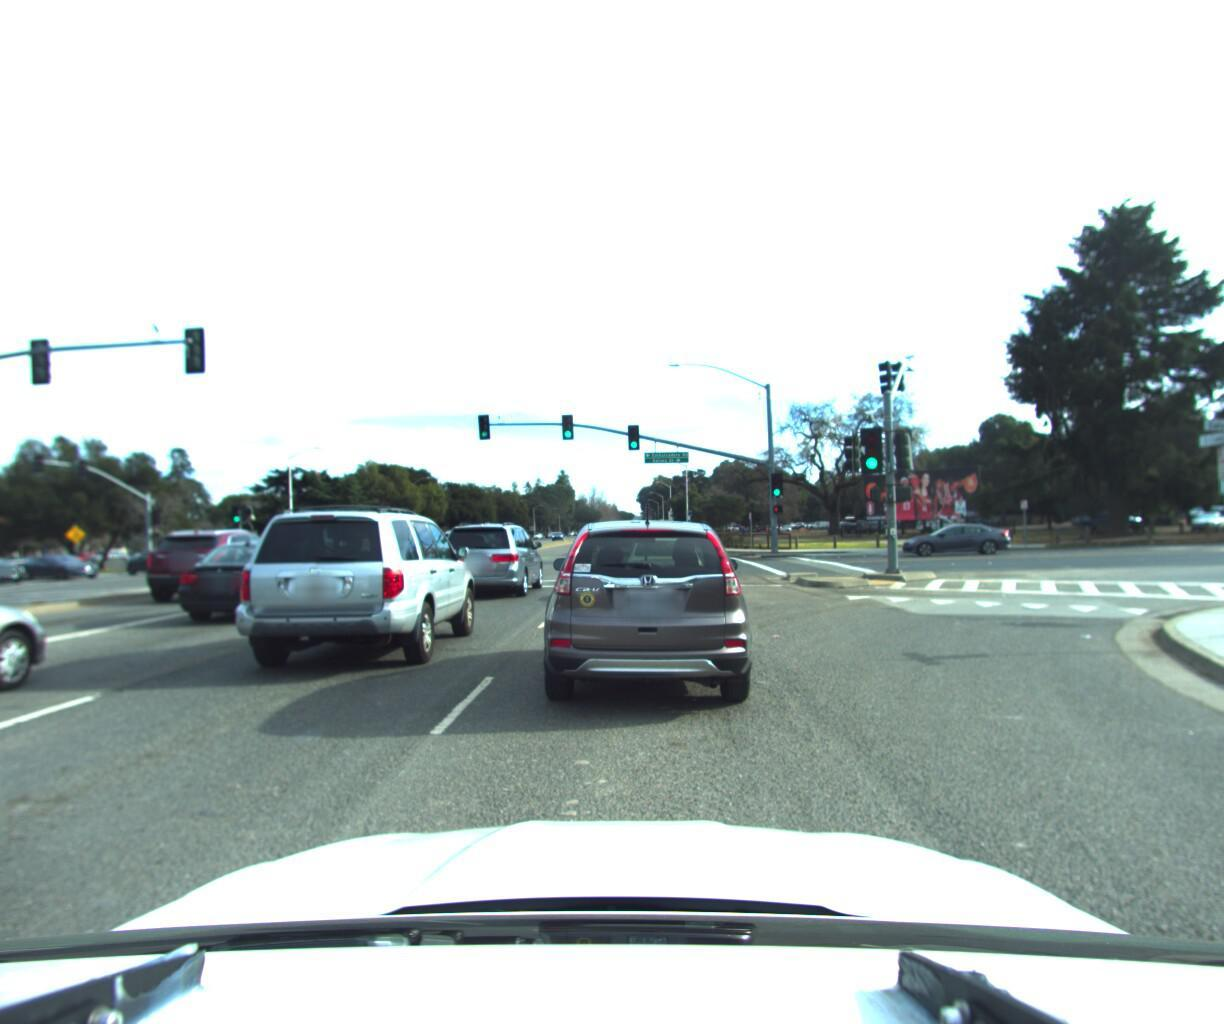car: (522, 498, 774, 725), (213, 492, 487, 682), (0, 540, 77, 811), (150, 525, 354, 627), (128, 523, 300, 602), (426, 513, 547, 599), (892, 516, 1011, 553), (12, 550, 113, 581), (117, 546, 202, 575), (0, 555, 37, 587)
